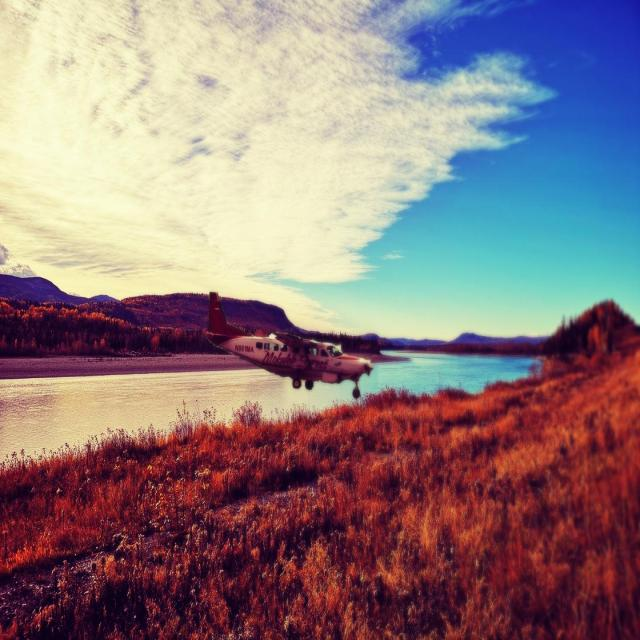airplane: (204, 291, 374, 398)
